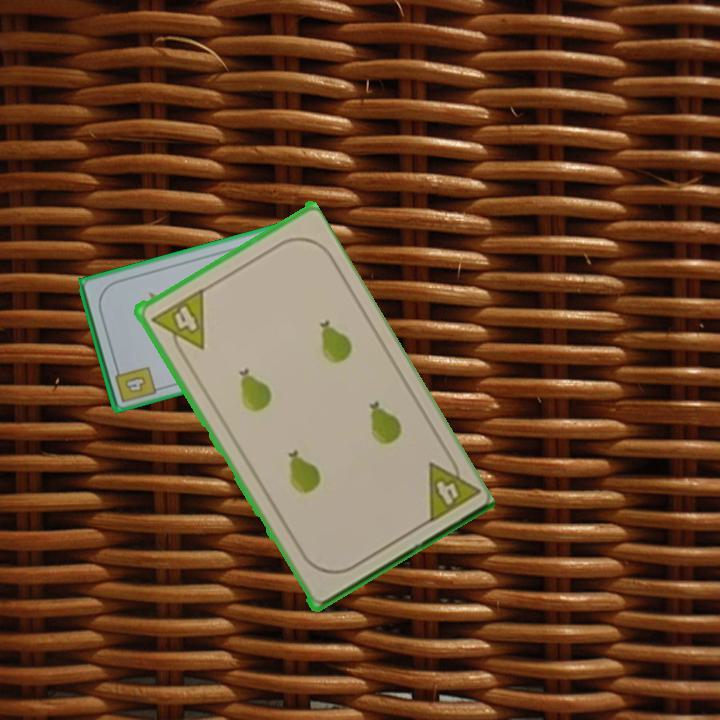4b: (111, 361, 159, 405)
4p: (421, 448, 481, 527), (146, 286, 208, 361)
